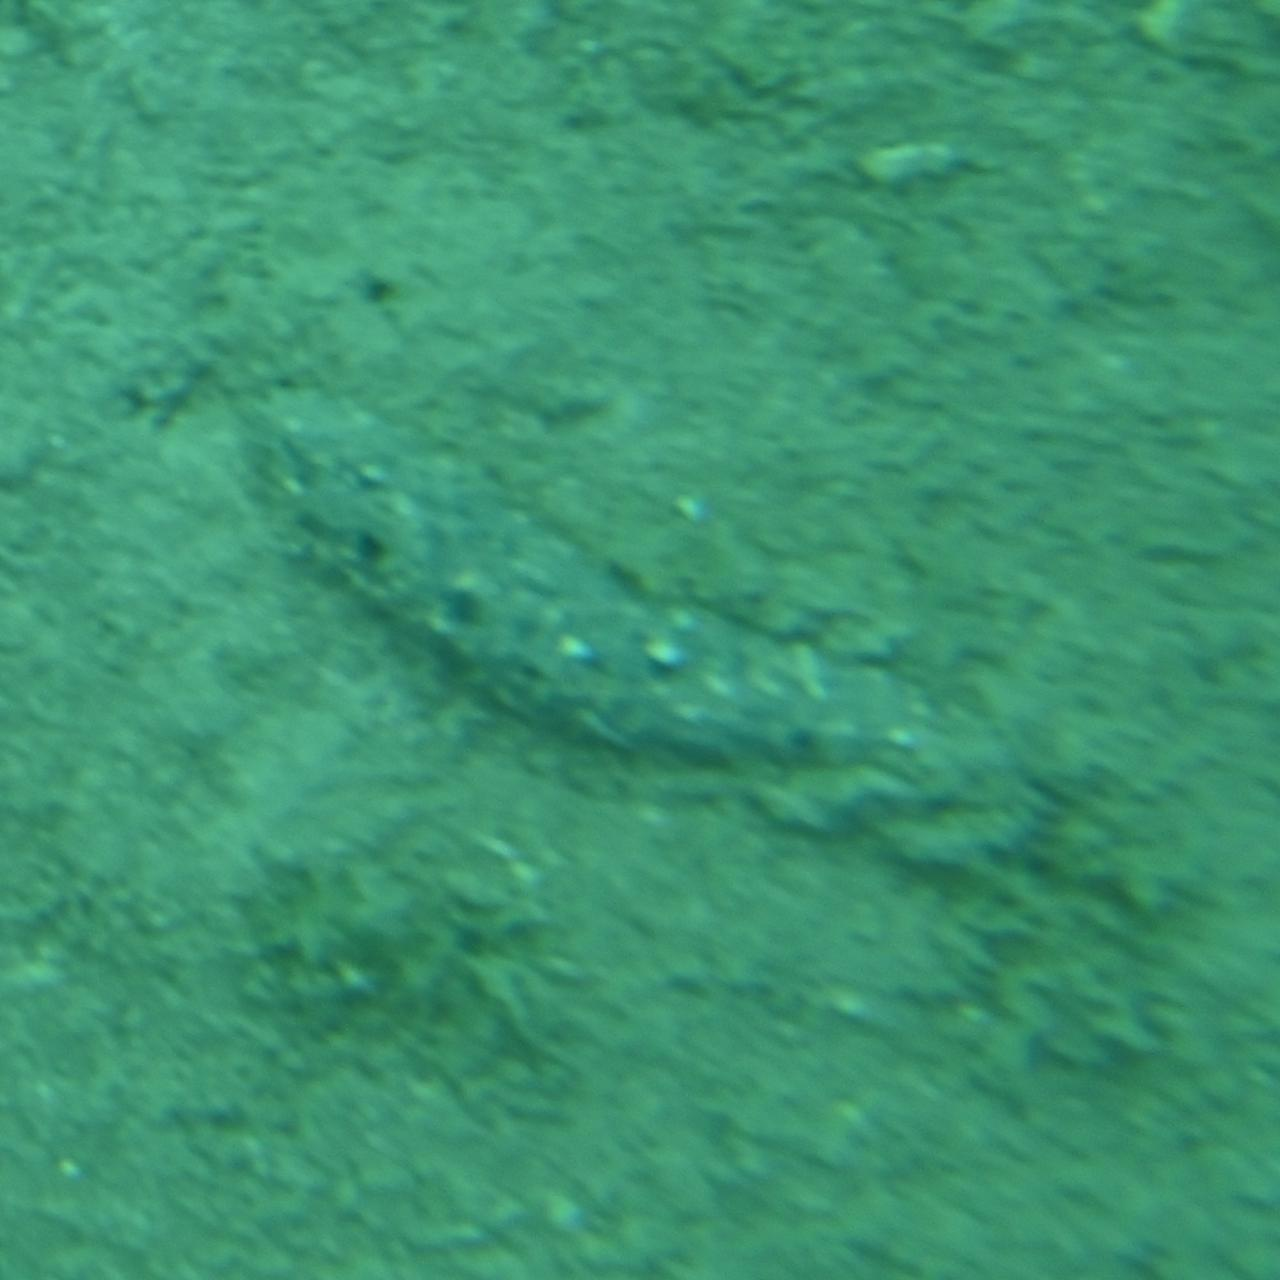Holothuria tubulosa: (244, 390, 1036, 890)
